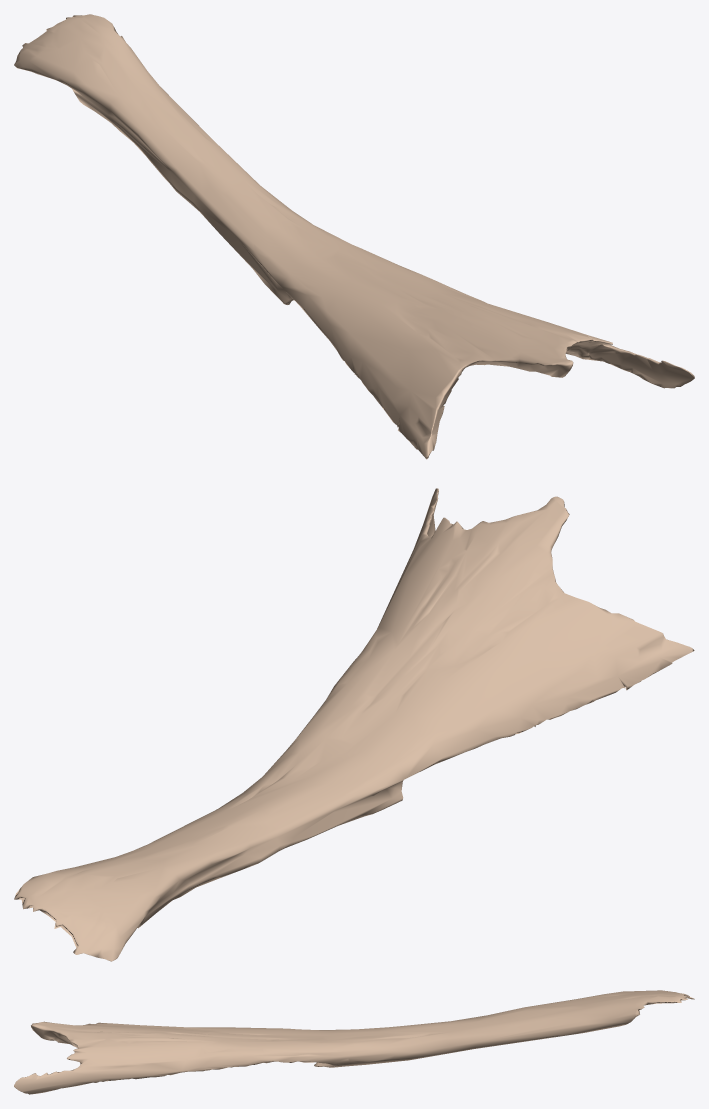
The picture shows the model from 3 angles, top to bottom: view 1: azimuth 30°, elevation 25°; view 2: azimuth 150°, elevation 25°; view 3: azimuth 270°, elevation 25°; orthographic projection. The views are drawn at different scales.
Visible parts, largest first — view 1: 左侧跟腱; view 2: 左侧跟腱; view 3: 左侧跟腱.
Part boxes in pixels (x1,y1,x2,y2): 左侧跟腱: (14,14,694,459); 左侧跟腱: (14,488,694,961); 左侧跟腱: (14,990,694,1094).
Bounding box in the file's own units: 0.093 × 0.0401 × 0.3243.
